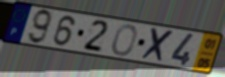2: (80, 19, 111, 54)
4: (169, 32, 195, 68)
6: (53, 15, 78, 48)
9: (26, 8, 53, 46)
O: (111, 23, 139, 57)
X: (139, 26, 177, 65)
